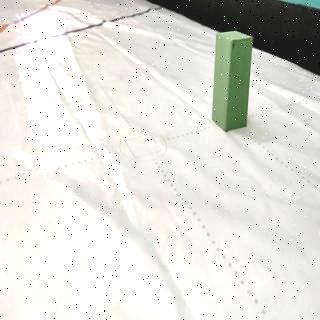greenbox: (212, 29, 255, 131)
